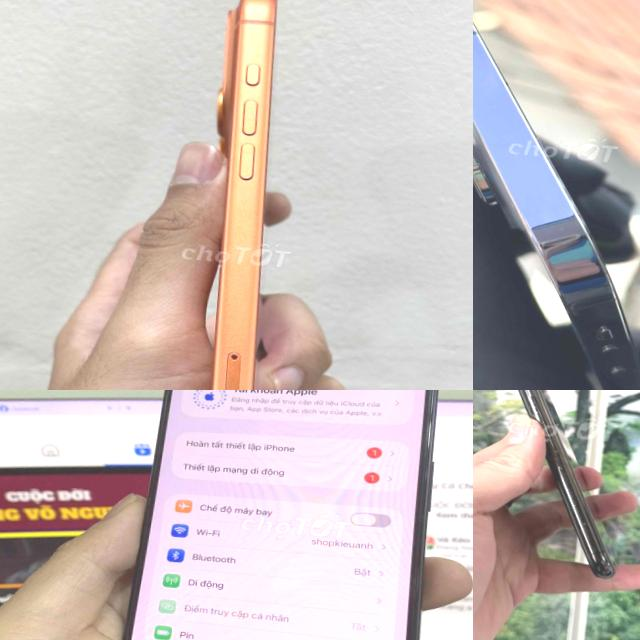gen_14: (473, 21, 640, 390)
gen_15: (99, 390, 453, 640)
gen_17: (158, 0, 347, 390)
gen_x_xs: (517, 390, 613, 577)
